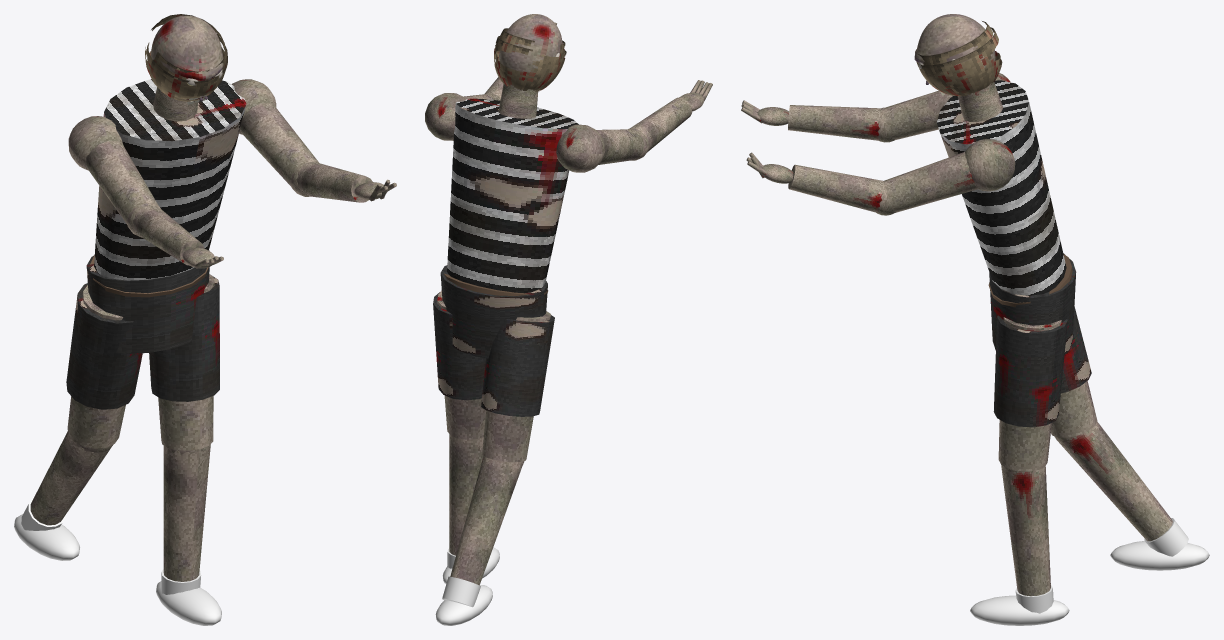
File: Zombie_103.glb
3 views of the same model, side by side, from view 1: azimuth 30°, elevation 25°; view 2: azimuth 150°, elevation 25°; view 3: azimuth 270°, elevation 25° (orthographic). The views are drawn at different scales.
Visible parts, largest first — view 1: Zombie_103, object 16, object 3, object 10, object 42, object 41; view 2: Zombie_103, object 16, object 3, object 42, object 41; view 3: Zombie_103, object 10, object 3, object 42, object 16, object 41.
Boxes of the visible parts, bbox=[...] form: Zombie_103: bbox=[14, 79, 318, 625]; object 16: bbox=[151, 15, 223, 97]; object 3: bbox=[132, 205, 204, 265]; object 10: bbox=[296, 162, 372, 202]; object 42: bbox=[145, 19, 227, 101]; object 41: bbox=[146, 14, 226, 99]; Zombie_103: bbox=[425, 84, 644, 625]; object 16: bbox=[499, 14, 562, 72]; object 3: bbox=[630, 97, 692, 152]; object 42: bbox=[494, 35, 566, 91]; object 41: bbox=[495, 28, 565, 78]; Zombie_103: bbox=[884, 73, 1209, 625]; object 10: bbox=[788, 164, 883, 212]; object 3: bbox=[788, 105, 880, 140]; object 42: bbox=[916, 27, 1002, 96]; object 16: bbox=[914, 14, 995, 68]; object 41: bbox=[916, 21, 1000, 87].
Bounding box in the file's own units: 0.5584 × 1.67 × 1.21.
Materials: 16 (6 with a texture image).
